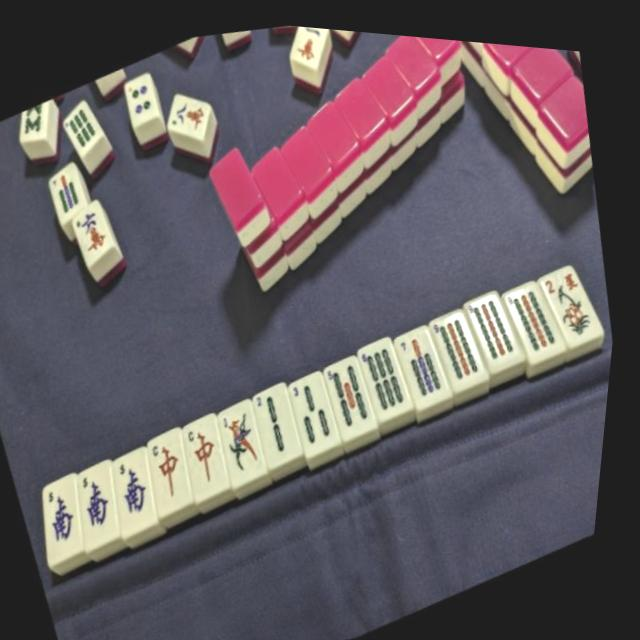bs2: (529, 251, 616, 354)
hdr: (141, 429, 206, 514), (176, 413, 240, 493)
hws: (71, 462, 131, 541), (108, 449, 169, 526), (38, 478, 96, 552)
sb1: (210, 399, 277, 481)
sb2: (245, 378, 314, 465)
sb3: (280, 368, 350, 455)
sb5: (316, 351, 387, 439)
sb6: (349, 332, 421, 424)
sb7: (387, 321, 458, 410)
sb9: (493, 271, 572, 366), (454, 282, 531, 375), (421, 302, 497, 396)
